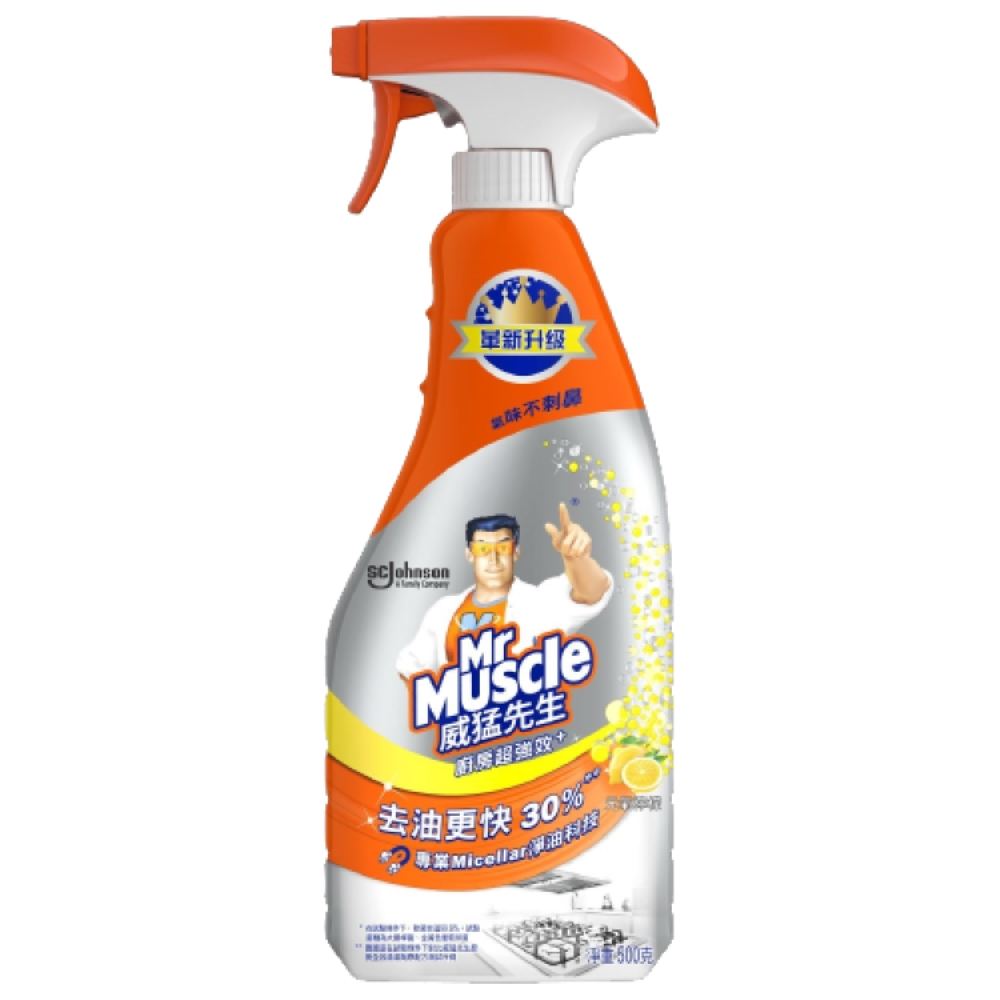cleaner: (293, 13, 679, 985)
